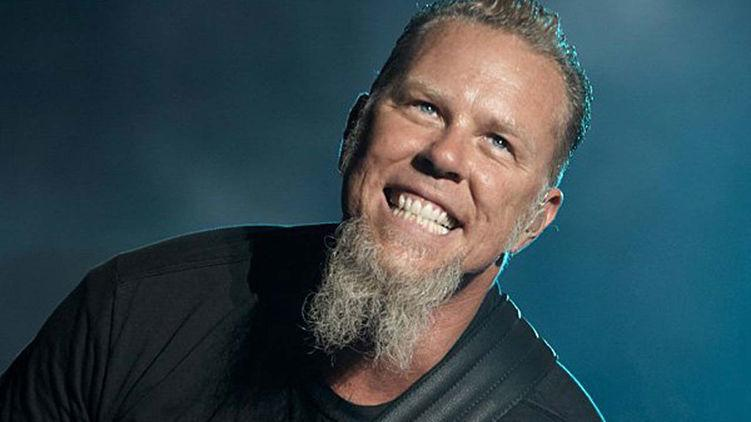beard: (286, 208, 473, 380)
